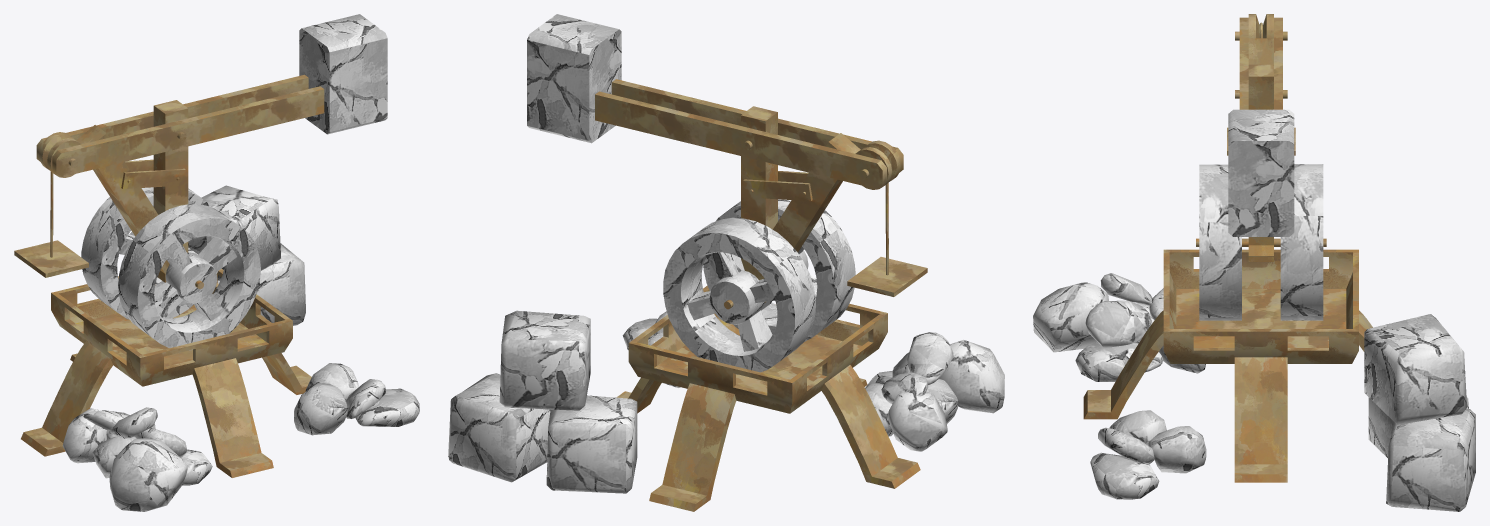
File: Cava.FBX
3 renders of one model, left to right at view 1: azimuth 30°, elevation 25°; view 2: azimuth 150°, elevation 25°; view 3: azimuth 270°, elevation 25°, orthographic. The views are drawn at different scales.
Visible parts, largest first — view 1: Riverstone_001; view 2: Riverstone_001; view 3: Riverstone_001.
Part boxes in pixels (box(x1,y1,x2,y2)): Riverstone_001: box(14, 14, 419, 511); Riverstone_001: box(448, 14, 1004, 511); Riverstone_001: box(1033, 14, 1475, 511).
Size of the model in its own units: 0.9909 by 0.9432 by 1.01.
4 materials, 3 textured.
